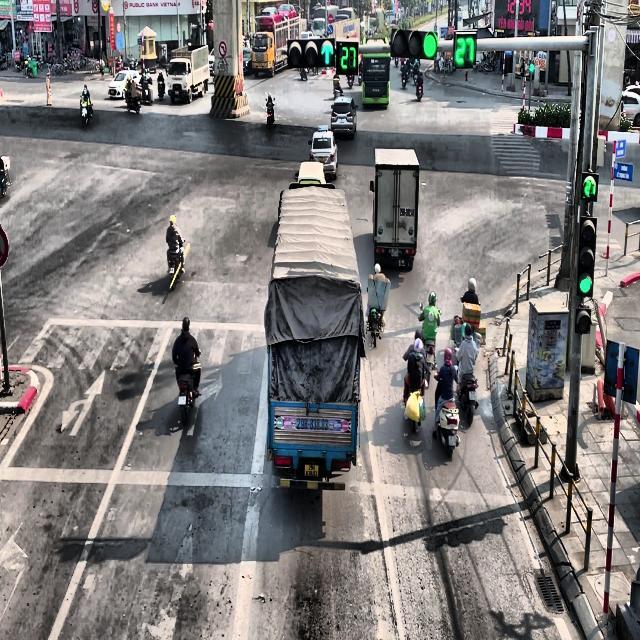lisence_plate: (294, 414, 331, 436), (303, 461, 320, 478), (399, 208, 415, 218), (177, 393, 186, 406), (447, 434, 456, 447), (390, 248, 400, 258), (339, 117, 346, 125), (373, 96, 380, 104), (319, 156, 325, 164), (373, 88, 380, 93)
